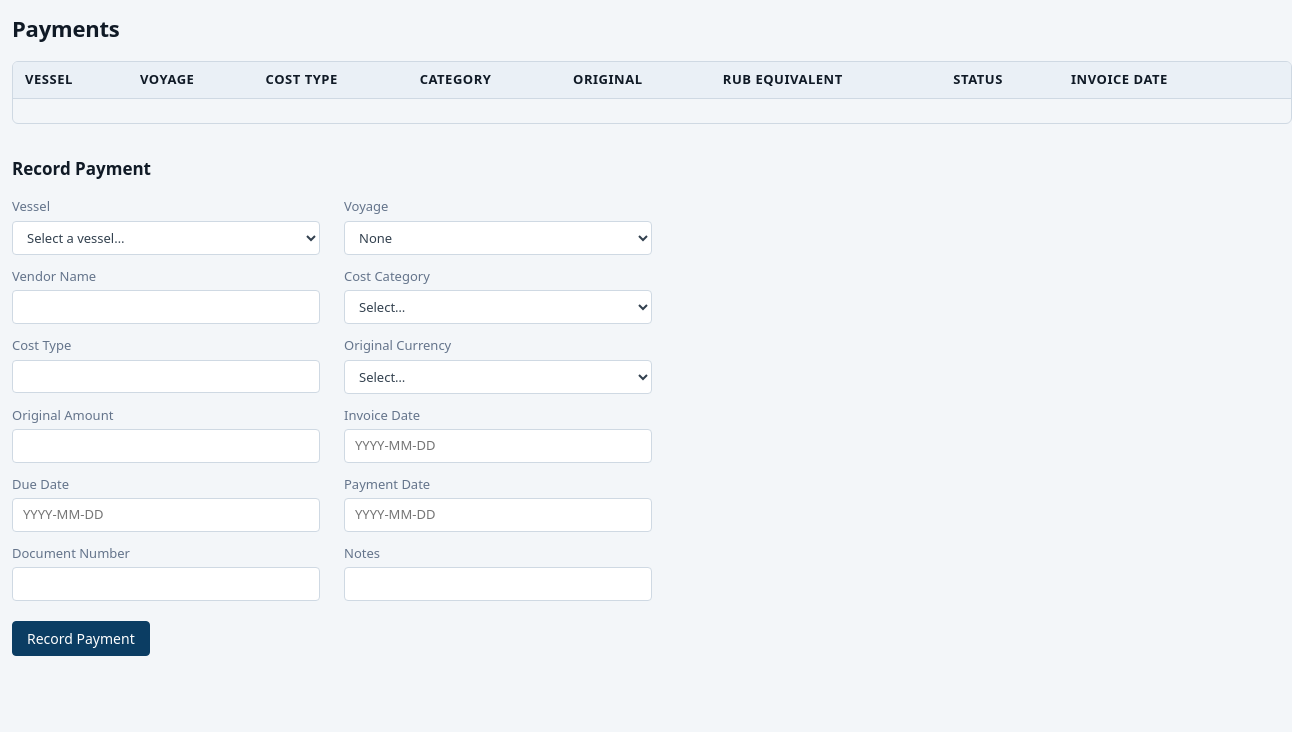
PaymentsPage › surfaces the error when a USD payment has no stored exchange rate for its date
Select "MV Arctic" in the dropdown labelled "Vessel" at [166, 238], box [12, 220, 320, 254]
Select "Income" in the dropdown labelled "Cost Category" at [498, 307], box [344, 290, 652, 324]
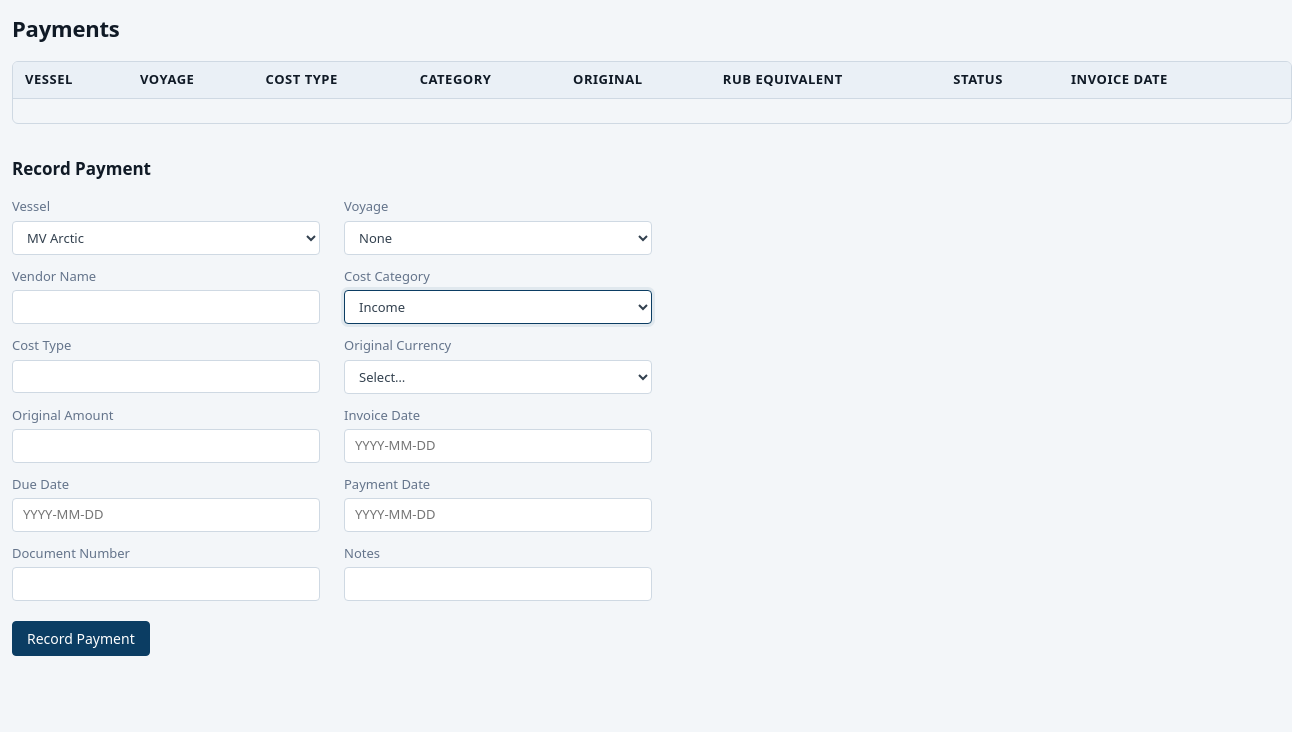
Type "Freight" into the field labelled "Cost Type" at [166, 376], box [12, 360, 320, 393]
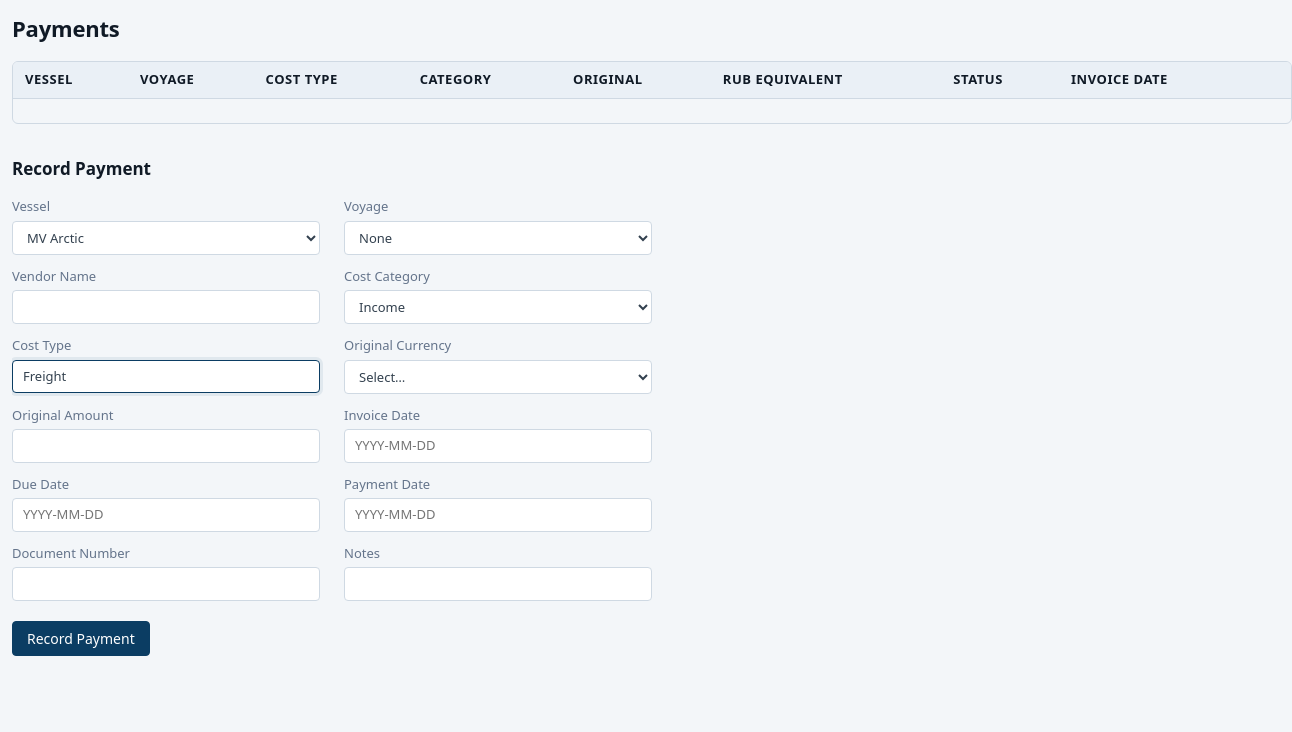
Select "USD" in the dropdown labelled "Original Currency" at [498, 376], box [344, 360, 652, 394]
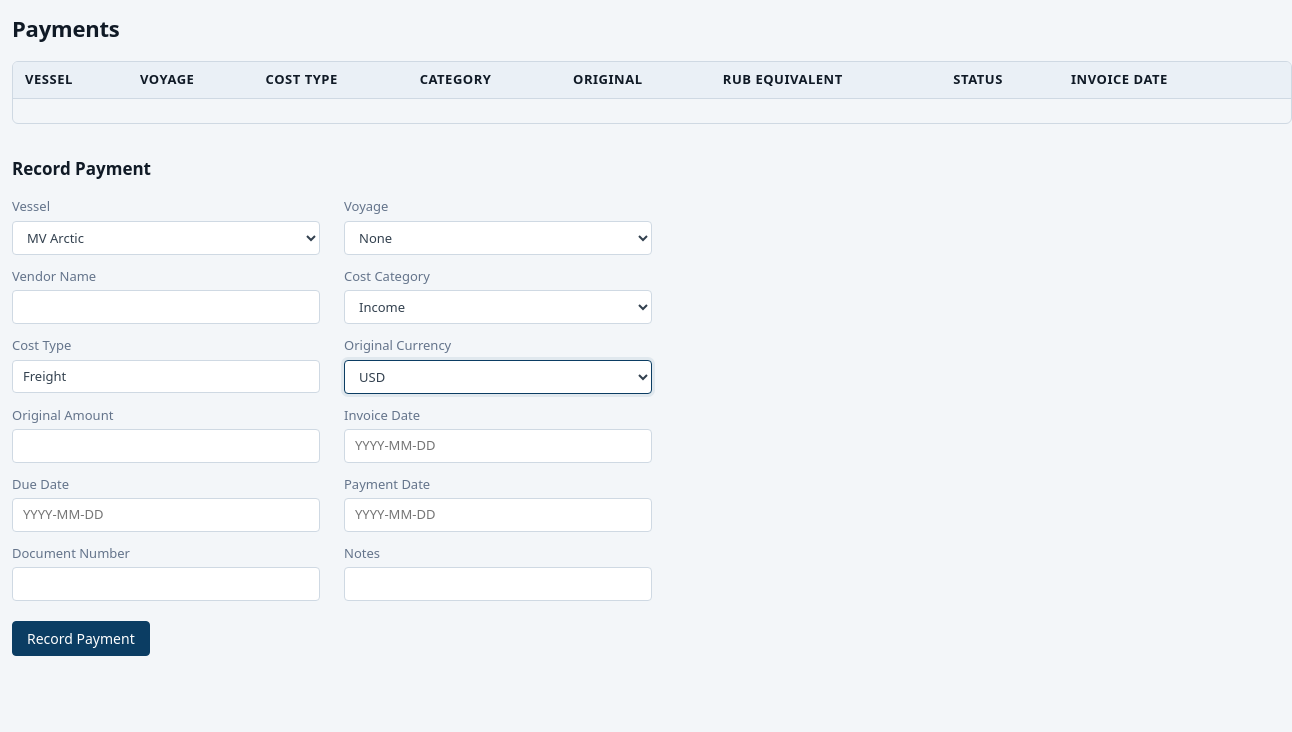
Type "12500" into the number field labelled "Original Amount" at [166, 446], box [12, 429, 320, 462]
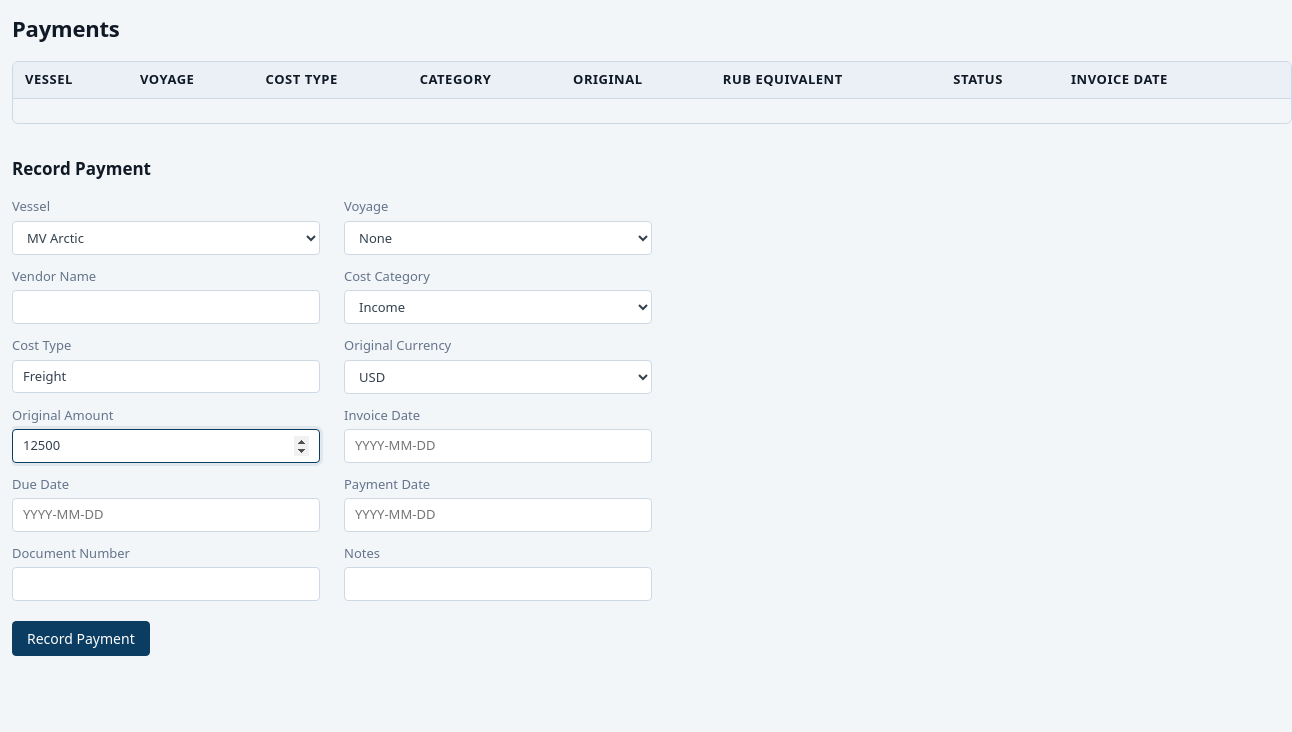
Type "2026-07-15" into the field labelled "Invoice Date" at [498, 446], box [344, 429, 652, 462]
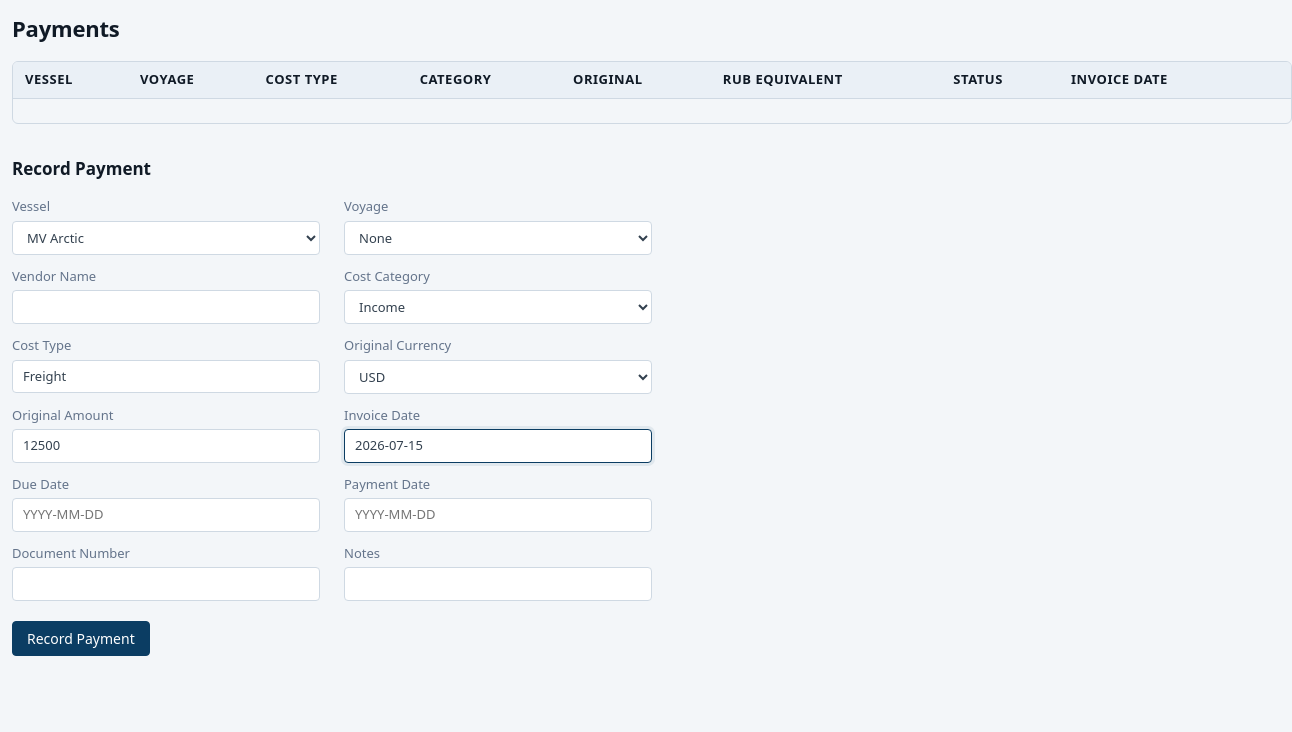
Click the button "Record Payment" at [81, 638], box [12, 620, 150, 656]
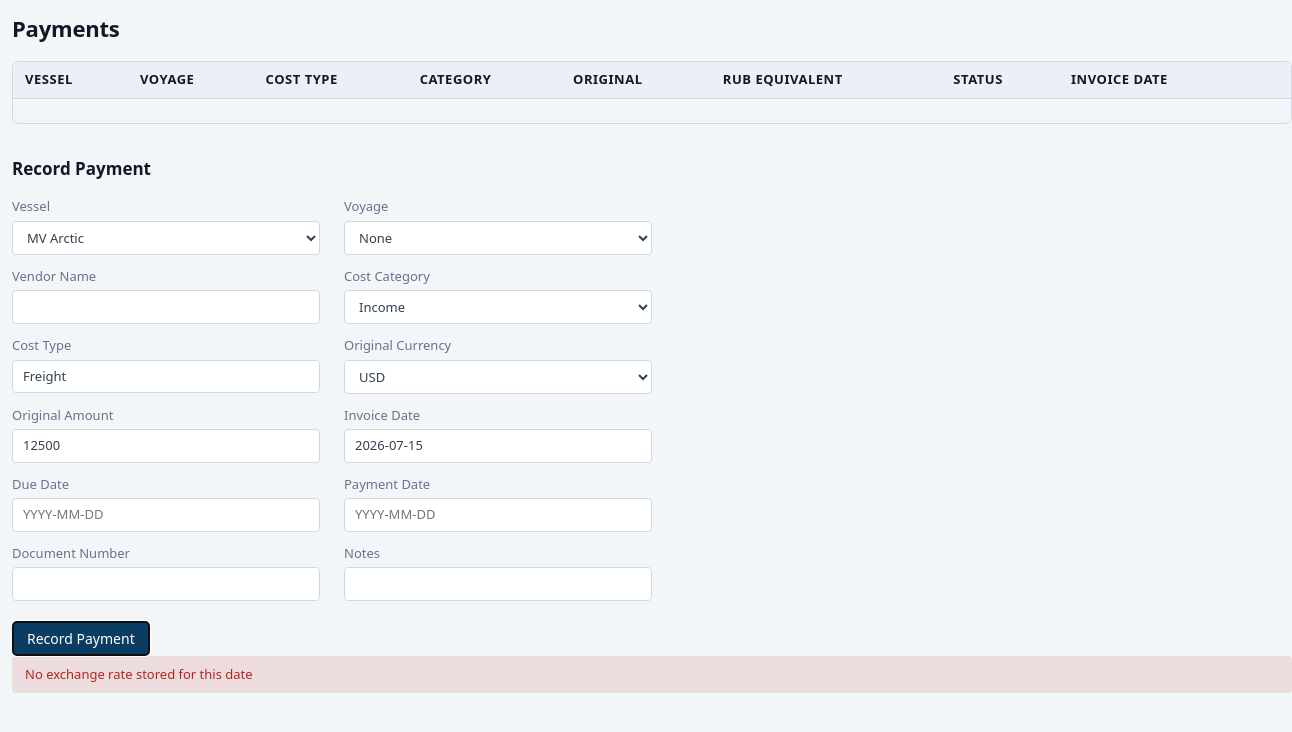
Expected: the text "No exchange rate stored for this date" is shown, [12, 656, 1291, 693]
